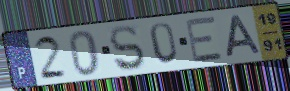0: (67, 28, 102, 78), (148, 21, 179, 66)
2: (32, 34, 68, 80)
A: (225, 13, 264, 60)
E: (183, 14, 226, 64)
S: (108, 23, 148, 73)
